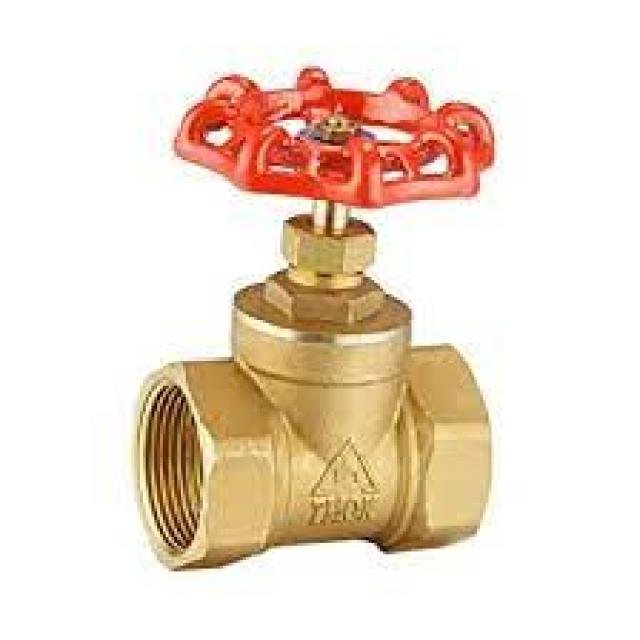Wheel Handle Valve Threaded: (116, 55, 516, 589)
